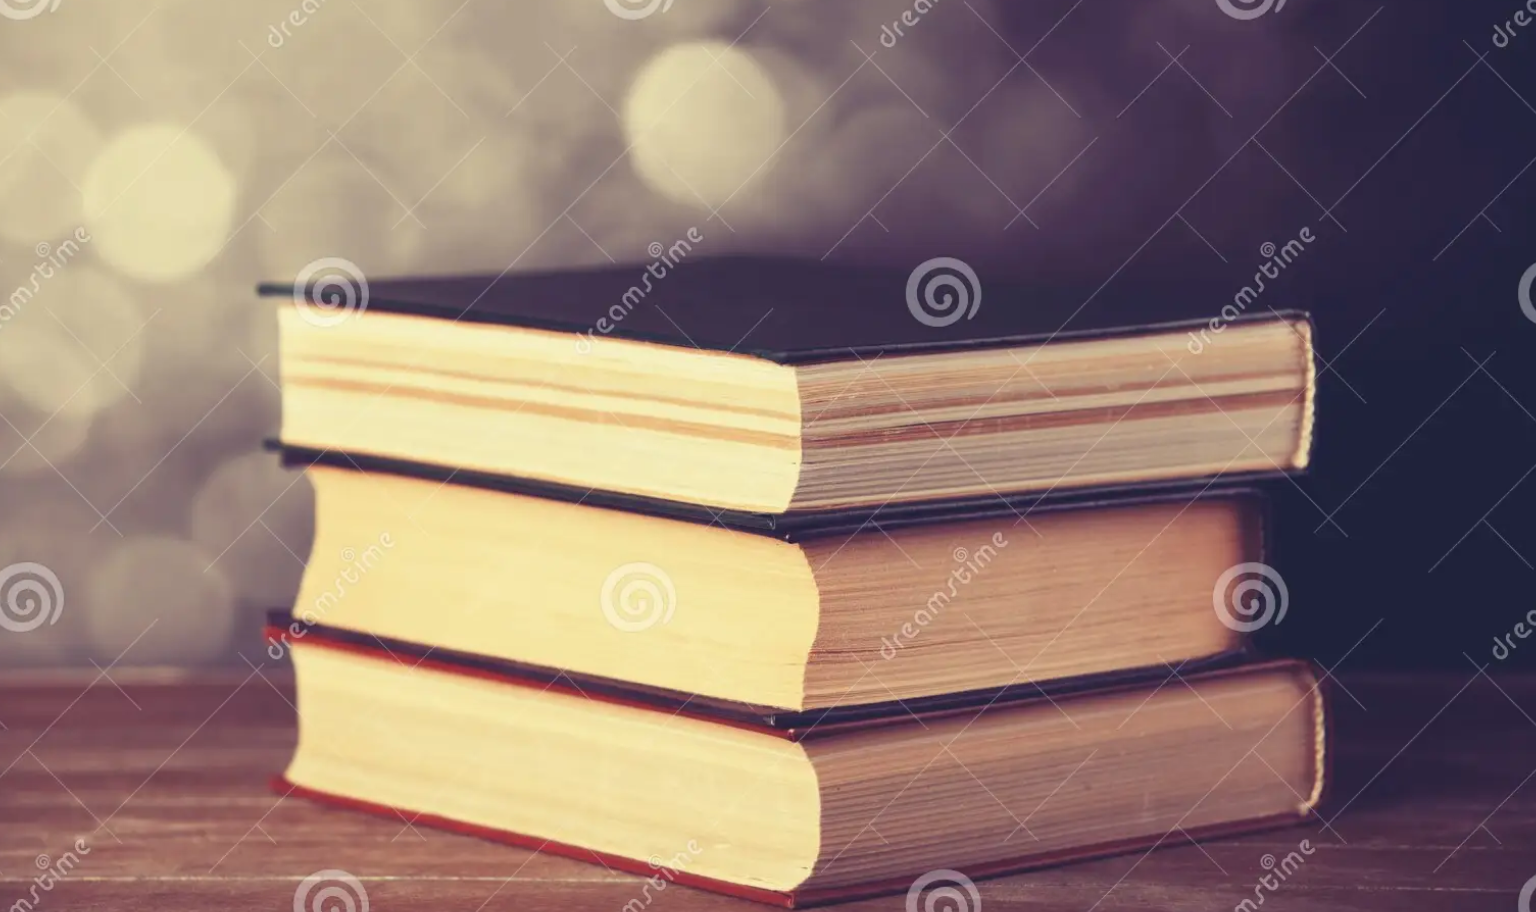book: (267, 648, 1333, 905), (257, 461, 1262, 709), (255, 256, 1321, 485)
